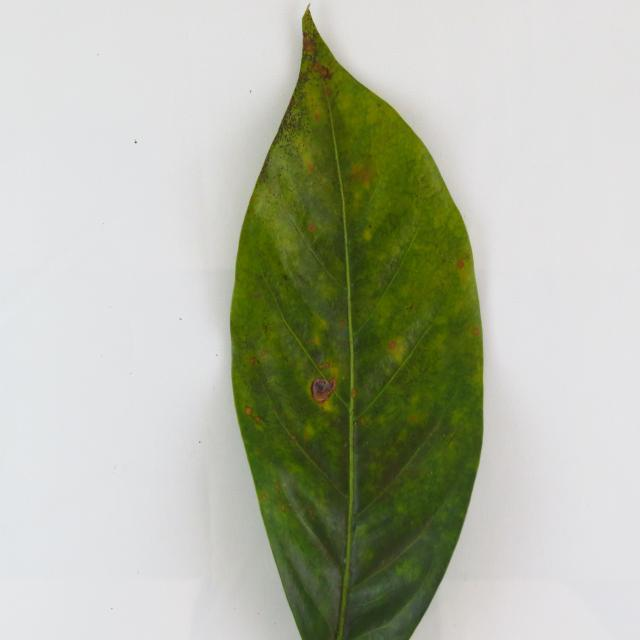DeficienciaNutricional-Potasio: (231, 10, 482, 638)
